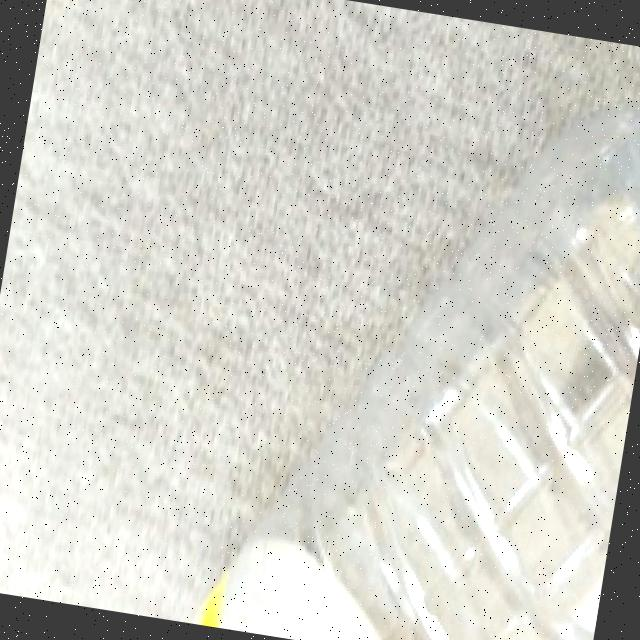bottle: (138, 44, 640, 640)
